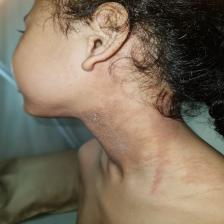DA: (104, 122, 216, 192)
